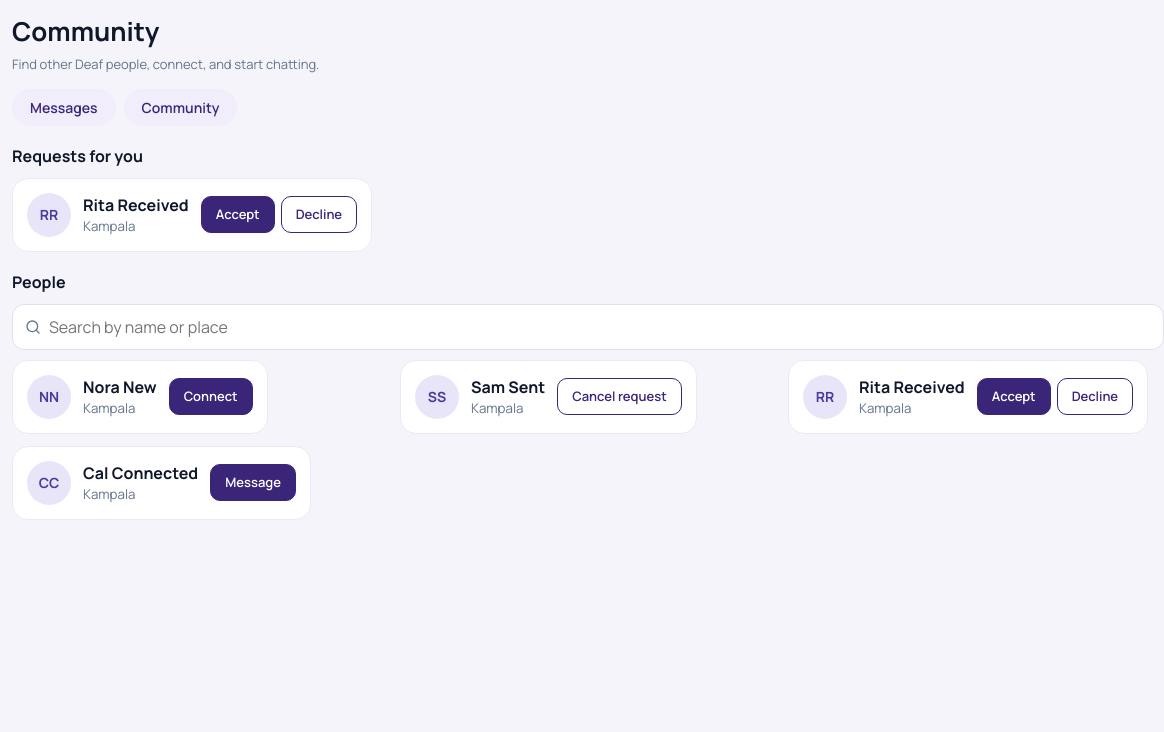
Test: CommunityPage › shows an error when something fails
Expected: the text "Nora New" is shown, x1=83 y1=374 x2=157 y2=398
Click the button with aria-label "Connect with Nora New": (211,397) x1=169 y1=378 x2=253 y2=415
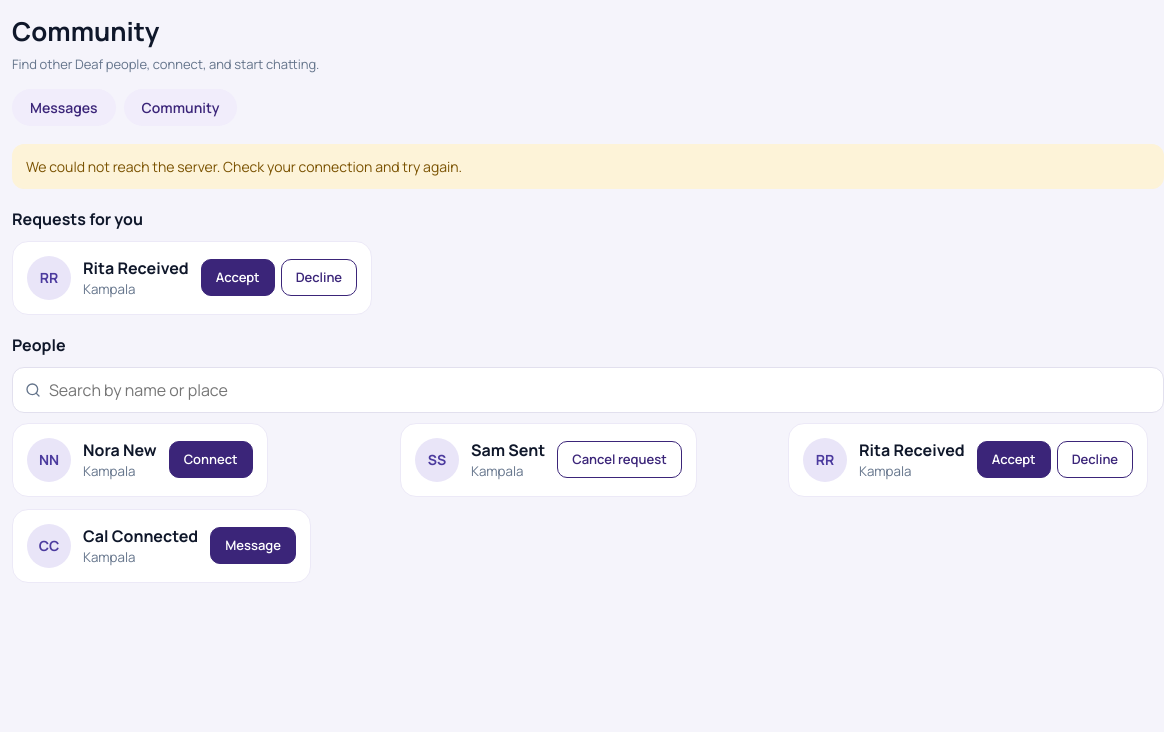
Now the message "We could not reach the server. Check your connection and try again." is shown, box x1=12 y1=144 x2=1163 y2=188
